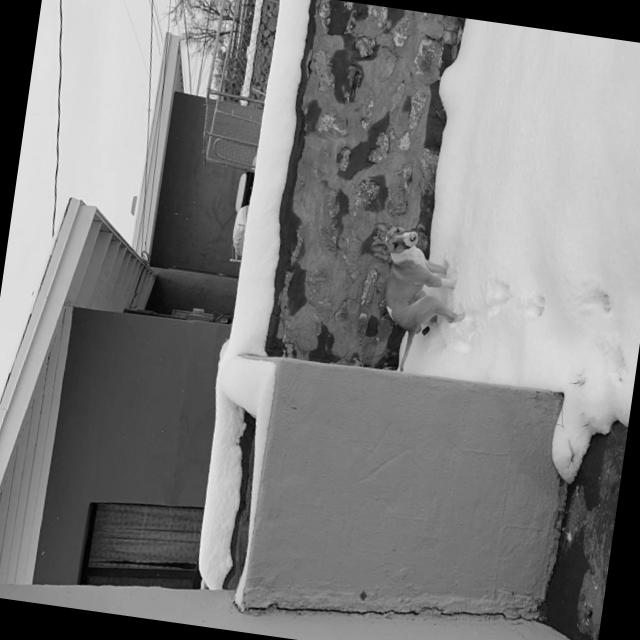squatting: (350, 213, 478, 382)
